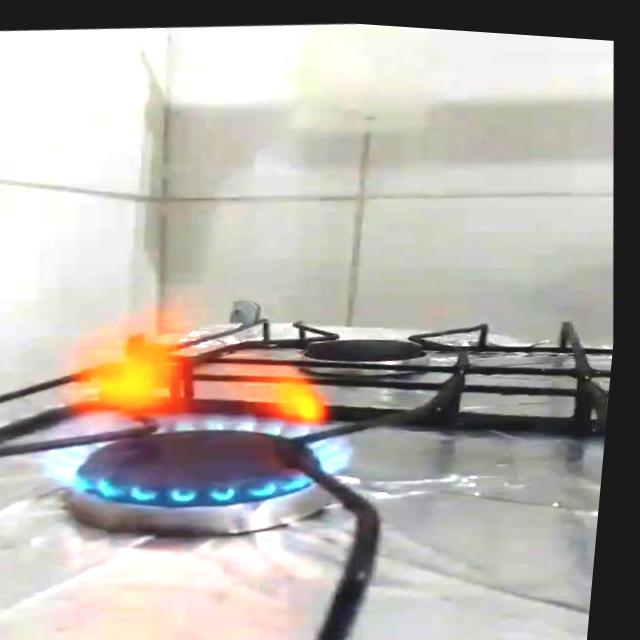Fire: (18, 261, 381, 524)
